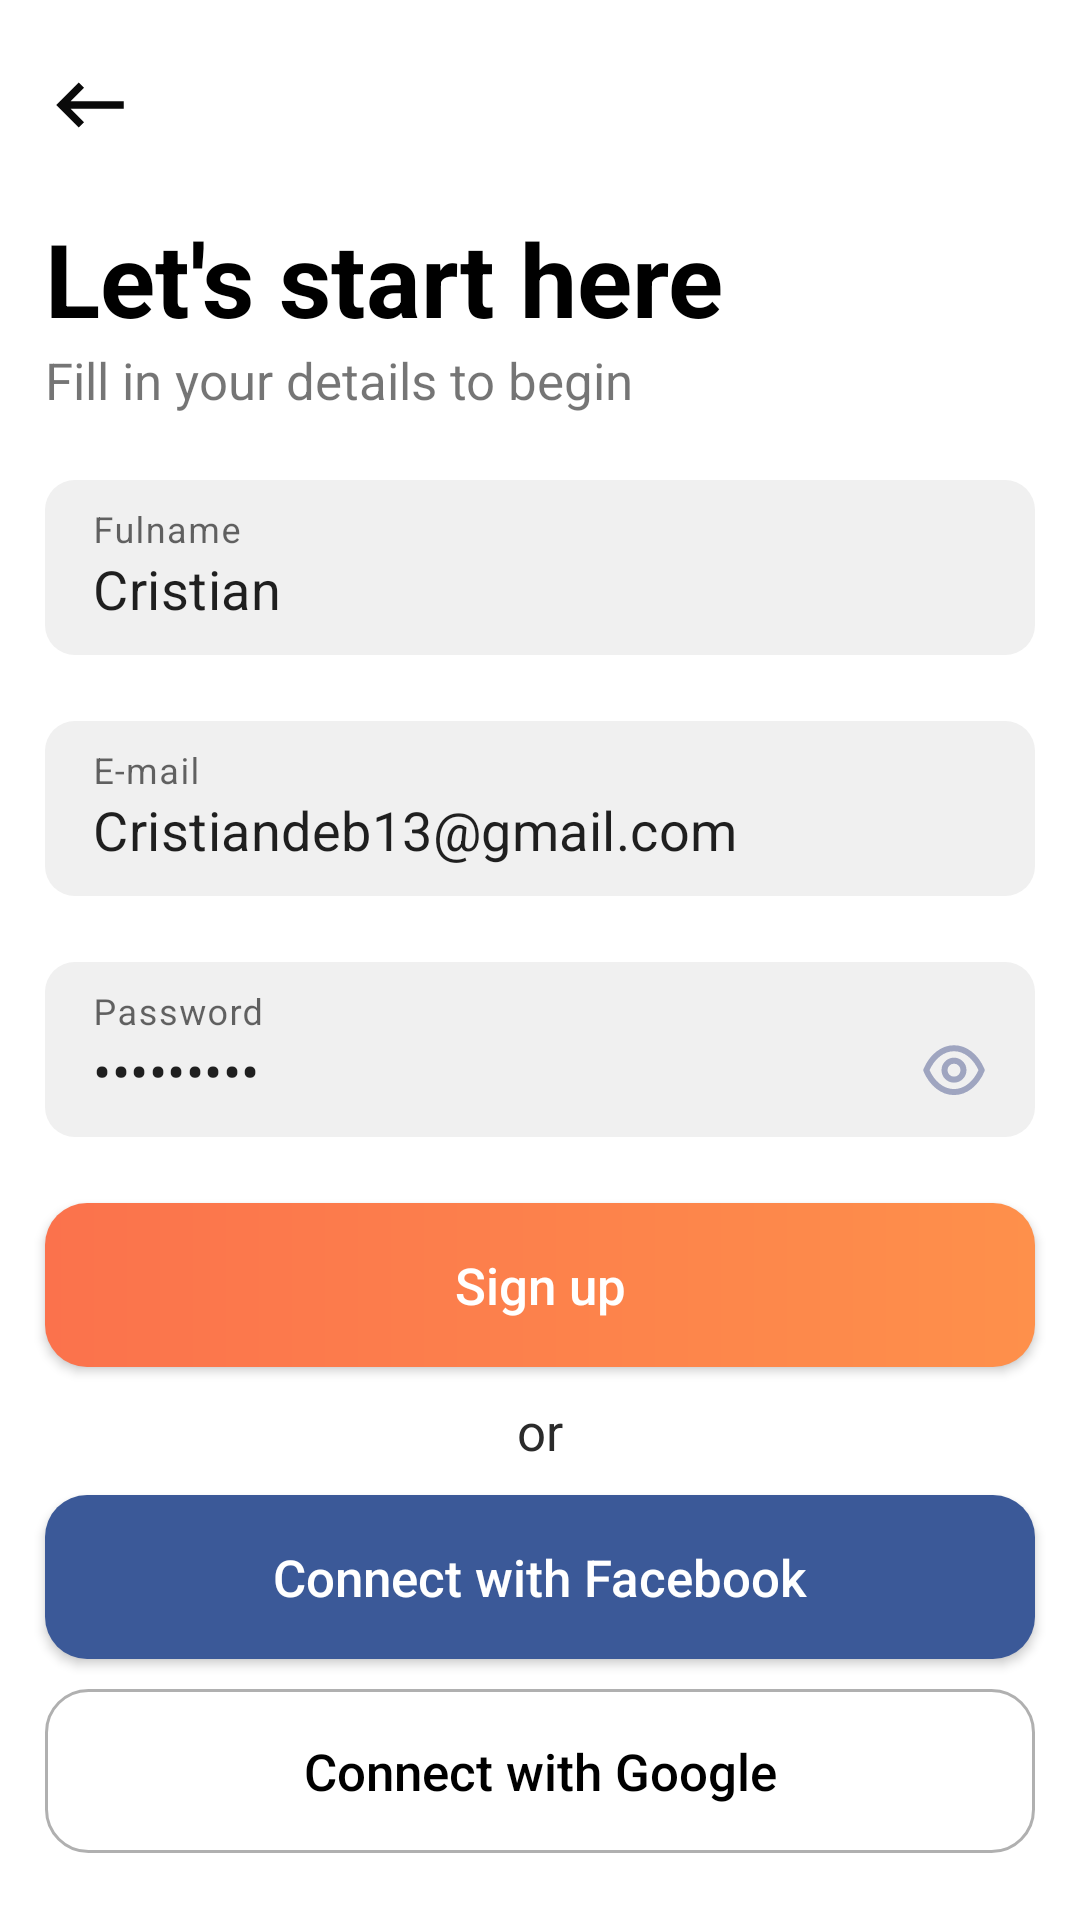

Locate icon controls on the screen. Image size 1080px×1920px, boxes as (x1, y1, x2, y2).
keyboard backspace: (56, 82, 124, 128)
